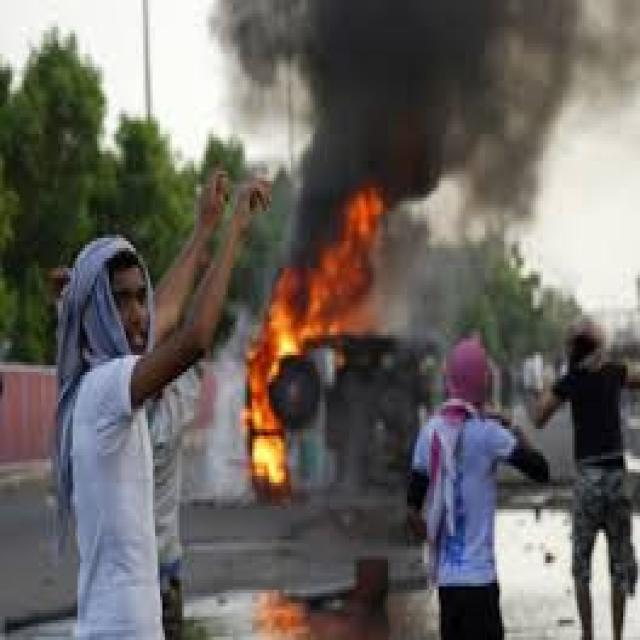Fire: (250, 266, 306, 498), (321, 182, 386, 266), (308, 266, 377, 339)
Smoke: (210, 0, 640, 113), (318, 110, 558, 182), (382, 182, 465, 336), (200, 302, 250, 501), (465, 178, 536, 234), (292, 134, 322, 266)
